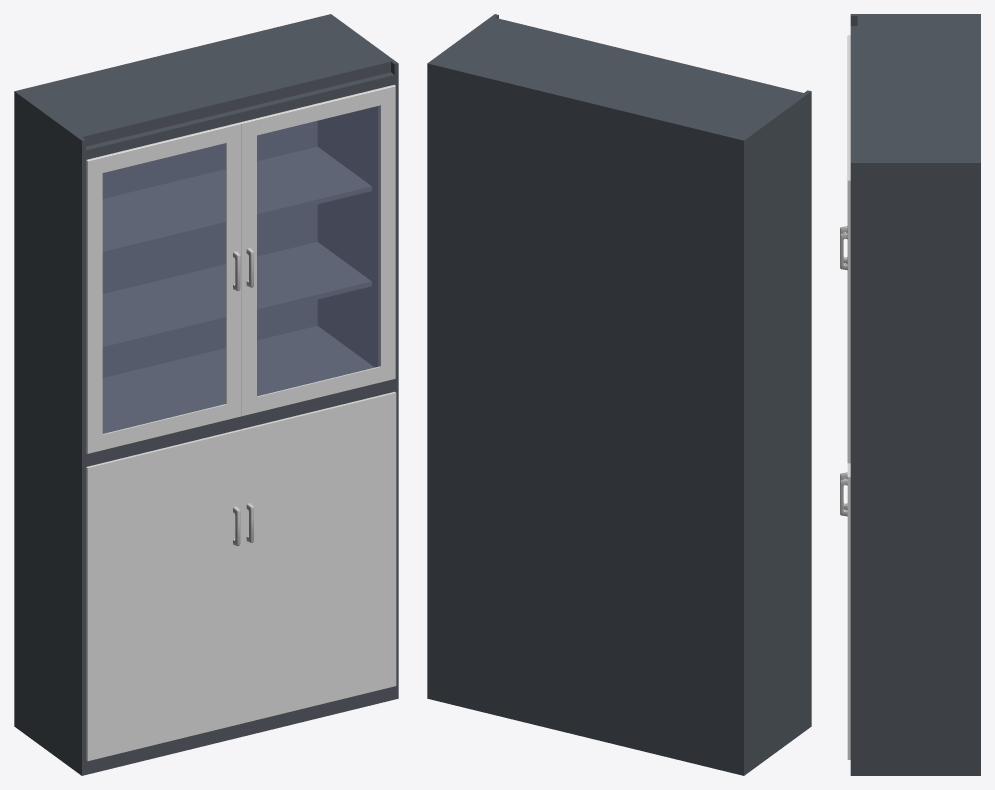
The model's file is SM_药品室_腐蚀品柜.fbx.
The picture shows the model from 3 angles, left to right: view 1: azimuth 30°, elevation 25°; view 2: azimuth 150°, elevation 25°; view 3: azimuth 270°, elevation 25°; orthographic projection. The views are drawn at different scales.
Parts seen in each view (by area): view 1: SM_药品室_腐蚀品柜; view 2: SM_药品室_腐蚀品柜; view 3: SM_药品室_腐蚀品柜.
Boxes of the visible parts, x1=… form: SM_药品室_腐蚀品柜: x1=14, y1=14, x2=398, y2=775; SM_药品室_腐蚀品柜: x1=427, y1=14, x2=811, y2=775; SM_药品室_腐蚀品柜: x1=840, y1=14, x2=980, y2=775.
Bounding box in the file's own units: 1247 × 2390 × 498.
